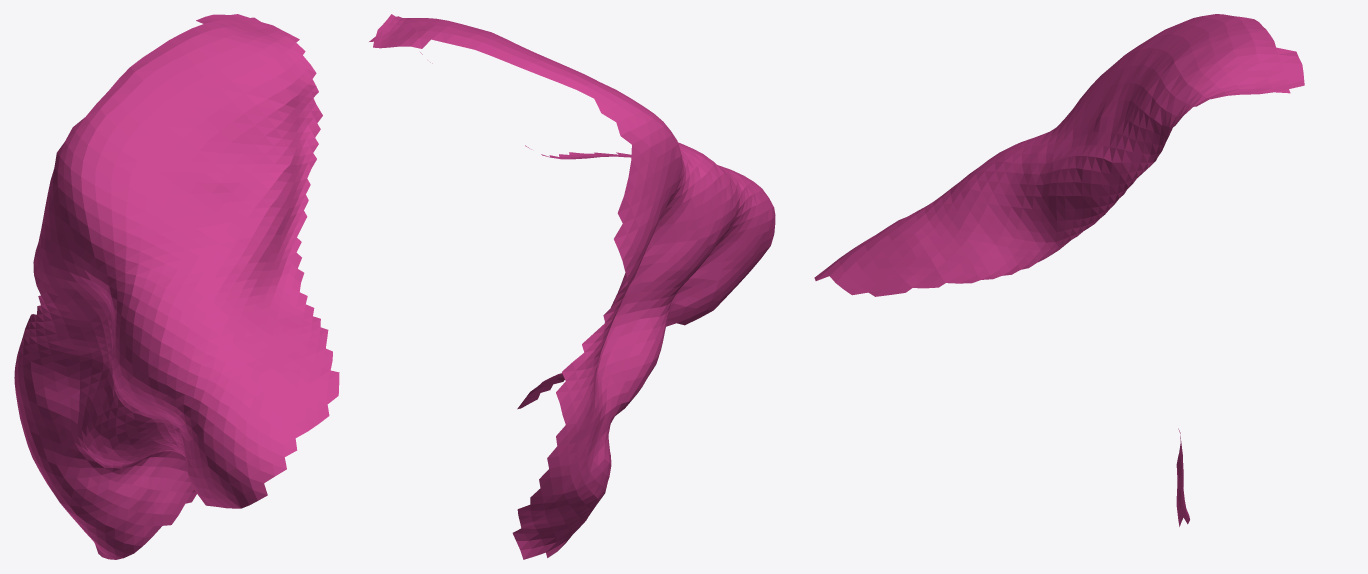
Rendered from rh_cuneus.glb.
3 views of the same model, side by side, from view 1: azimuth 30°, elevation 25°; view 2: azimuth 150°, elevation 25°; view 3: azimuth 270°, elevation 25° (orthographic). The views are drawn at different scales.
Parts seen in each view (by area): view 1: world; view 2: world; view 3: world.
Part boxes in pixels (x1,y1,x2,y2): world: [14, 14, 339, 559]; world: [369, 14, 775, 559]; world: [814, 14, 1304, 526].
Size of the model in its own units: 19.52 by 36.22 by 31.31.
